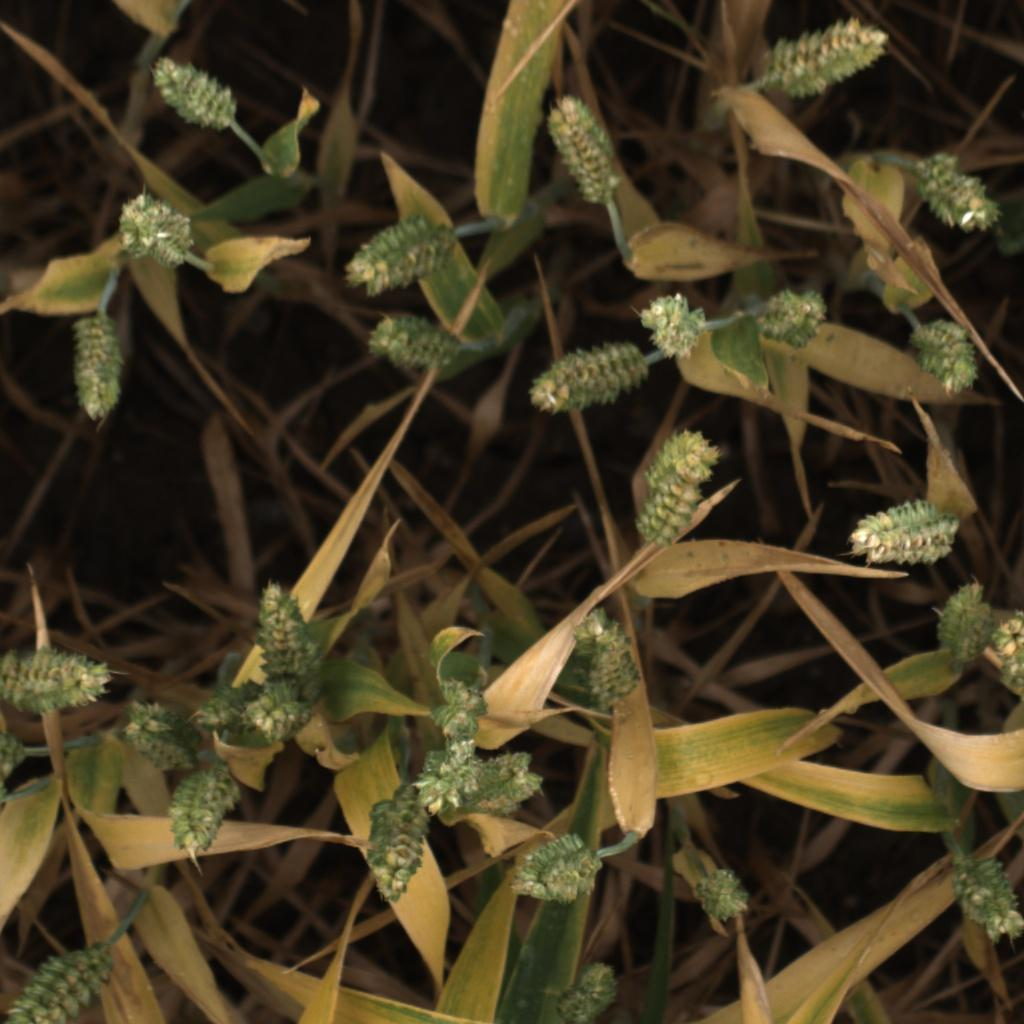0-0: (761, 12, 892, 102), (636, 428, 722, 552), (843, 490, 969, 571), (542, 92, 629, 205), (341, 213, 451, 300), (0, 942, 109, 1024), (529, 343, 644, 418), (567, 603, 649, 708), (357, 784, 429, 900), (0, 646, 113, 717), (145, 50, 238, 135), (912, 155, 1006, 238), (413, 732, 496, 825), (162, 761, 238, 862), (362, 311, 464, 381), (256, 581, 326, 678), (953, 851, 1024, 946), (112, 188, 196, 268), (504, 835, 603, 902), (67, 314, 128, 420), (907, 320, 990, 397), (929, 580, 999, 670), (628, 285, 710, 358), (121, 701, 202, 774), (753, 283, 831, 353), (547, 956, 626, 1024), (194, 681, 265, 752), (685, 855, 757, 925), (246, 681, 316, 745), (425, 675, 496, 733), (468, 748, 541, 804), (983, 607, 1024, 692), (3, 724, 28, 781)
